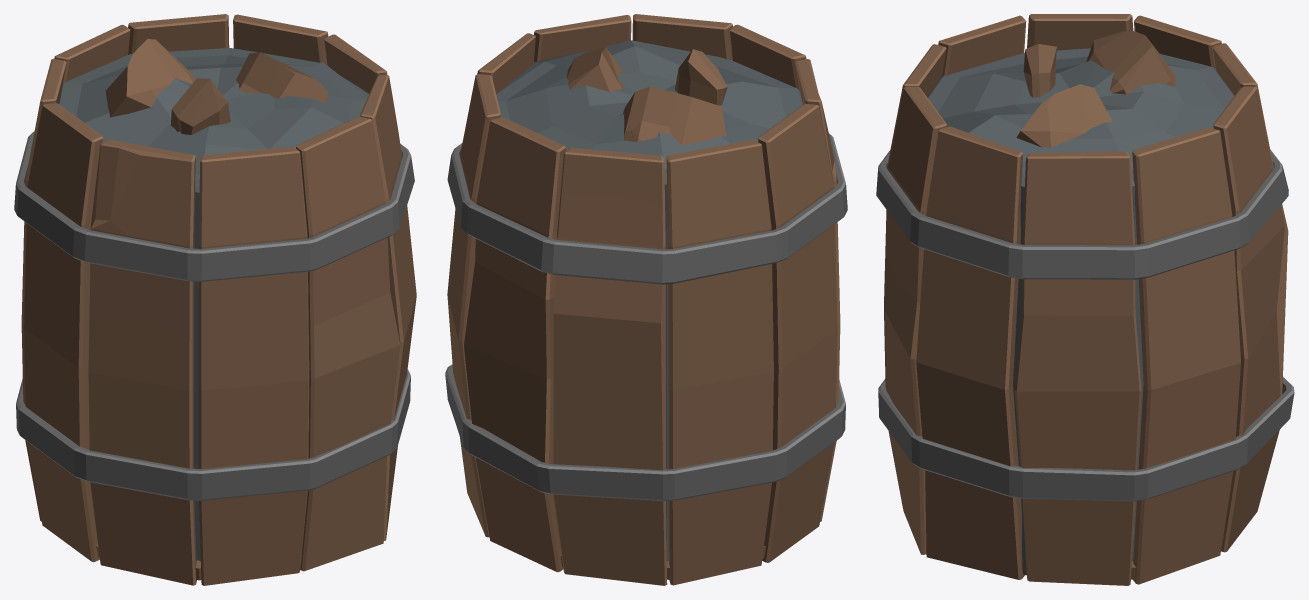
Rendered from Barrel3_Brown.fbx.
3 renders of one model, left to right at view 1: azimuth 30°, elevation 25°; view 2: azimuth 150°, elevation 25°; view 3: azimuth 270°, elevation 25°, orthographic.
Visible parts, largest first — view 1: Barrel3_Brown, Brown_Nuggets; view 2: Barrel3_Brown, Brown_Nuggets; view 3: Barrel3_Brown, Brown_Nuggets.
Part boxes in pixels (x1,y1,x2,y2): Barrel3_Brown: (14, 14, 416, 585); Brown_Nuggets: (105, 39, 328, 134); Barrel3_Brown: (445, 14, 847, 585); Brown_Nuggets: (566, 46, 727, 145); Barrel3_Brown: (876, 14, 1294, 585); Brown_Nuggets: (1016, 31, 1176, 147).
Size of the model in its own units: 101 by 129 by 106.
